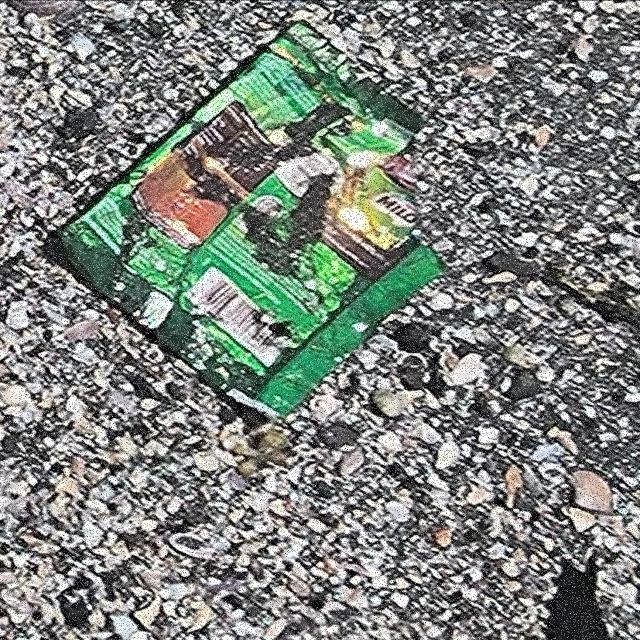plastic_waste: (58, 20, 459, 422)
